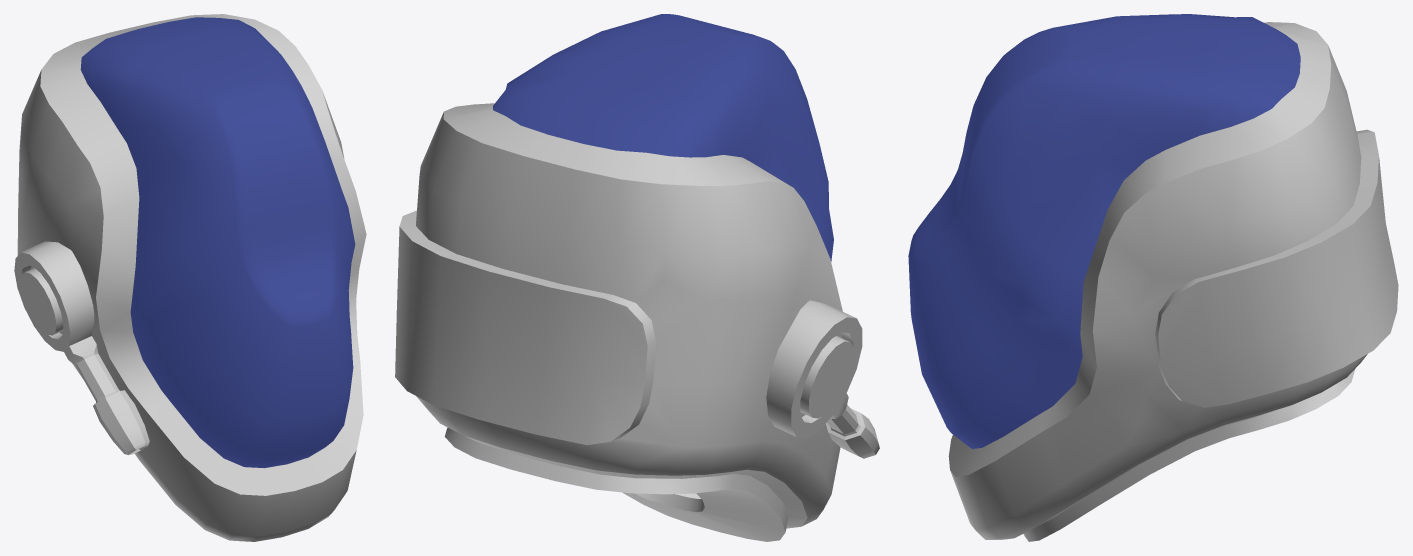
File: Helmet.fbx
3 views of the same model, side by side, from view 1: azimuth 30°, elevation 25°; view 2: azimuth 150°, elevation 25°; view 3: azimuth 270°, elevation 25° (orthographic). The views are drawn at different scales.
Parts seen in each view (by area): view 1: Plane.001; view 2: Plane.001; view 3: Plane.001.
Part boxes in pixels (bbox=[...]): Plane.001: bbox=[14, 14, 366, 541]; Plane.001: bbox=[395, 14, 879, 541]; Plane.001: bbox=[908, 14, 1398, 541].
Bounding box in the file's own units: 21.39 × 28.2 × 25.83.
